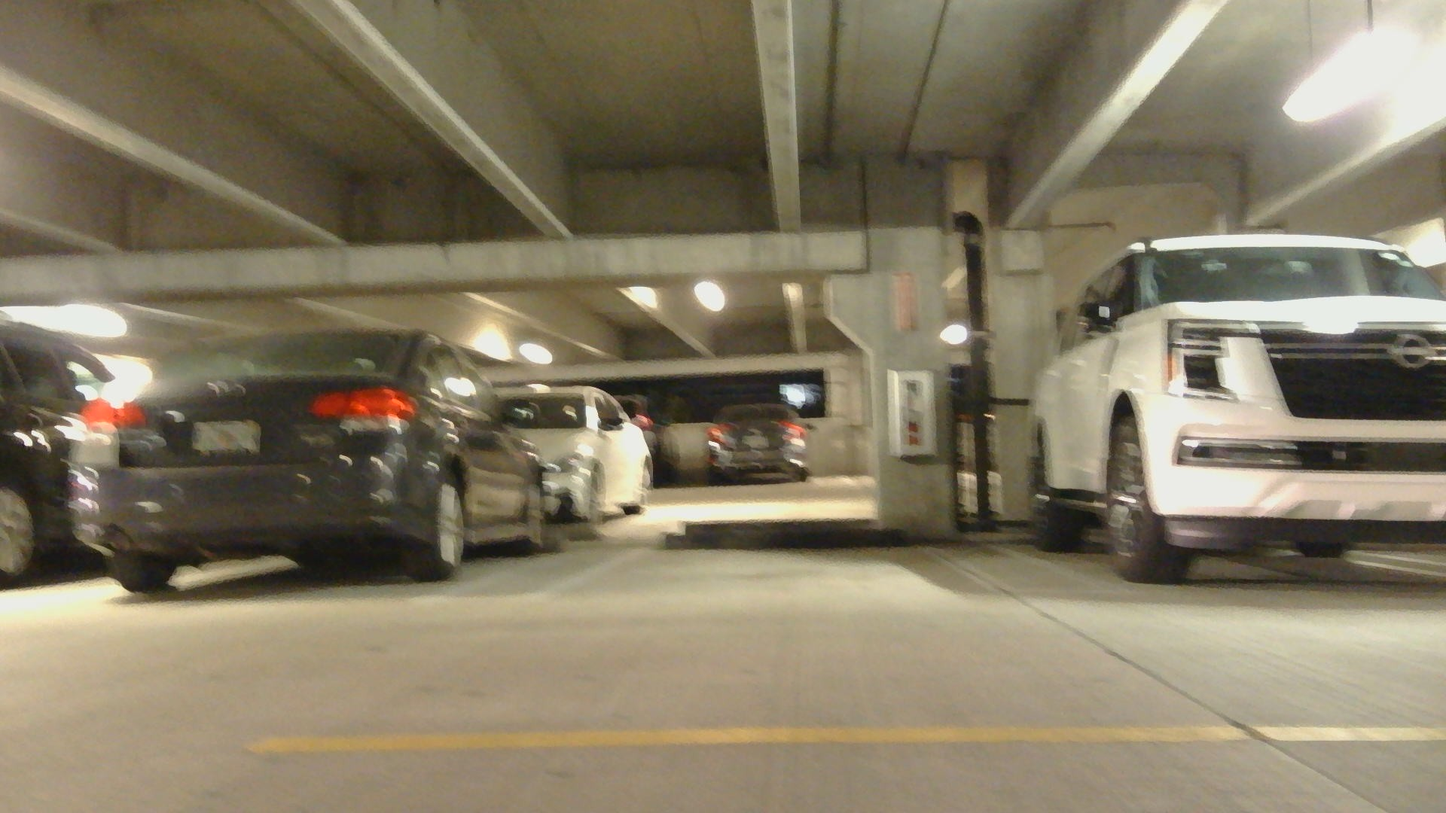empty_spot: (526, 519, 1027, 616)
occupied_spot: (1024, 237, 1446, 587), (75, 332, 554, 591)
